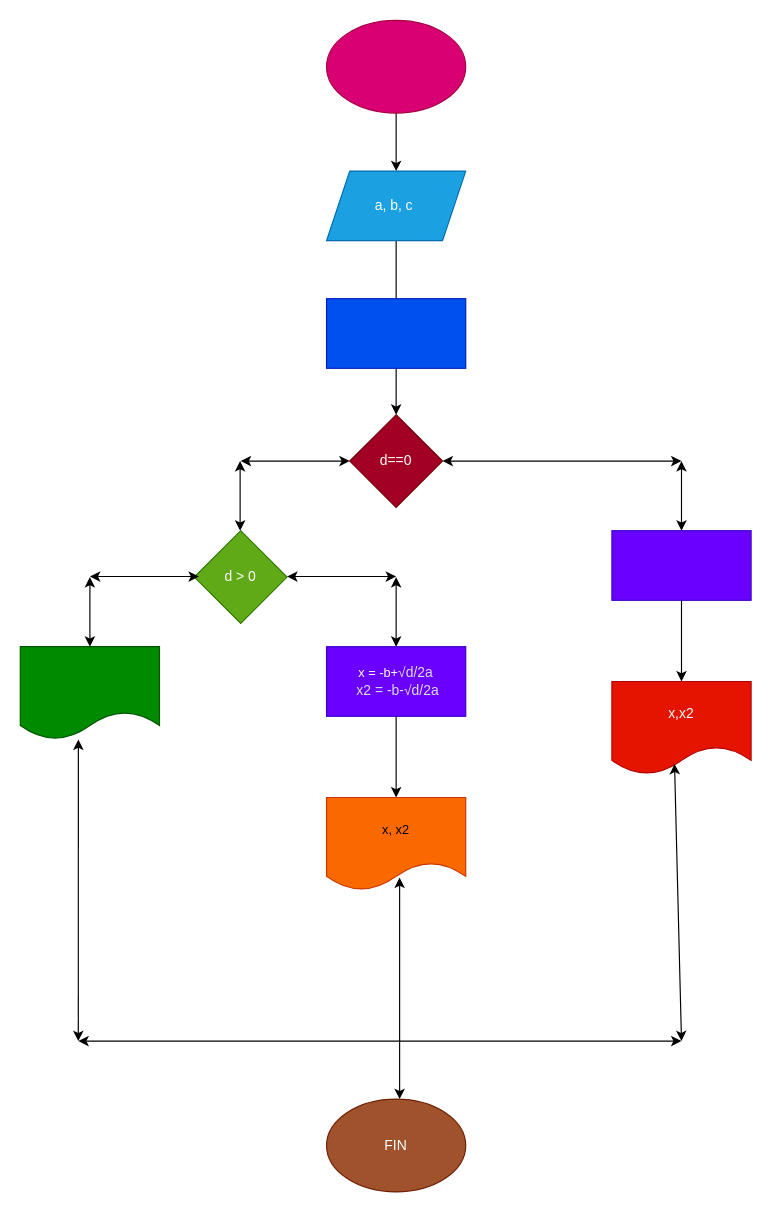
This 771x1212 diagram has some shape labels left out. The box of each missing label's shape, as (x1, y1, x2, y2) in pixels:
d = b 2 4ac: (325, 298, 466, 368)
INICIO: (325, 19, 466, 113)
msj = la solucion es iimaginaria: (19, 646, 160, 740)
x = b/2a: (611, 530, 751, 600)
